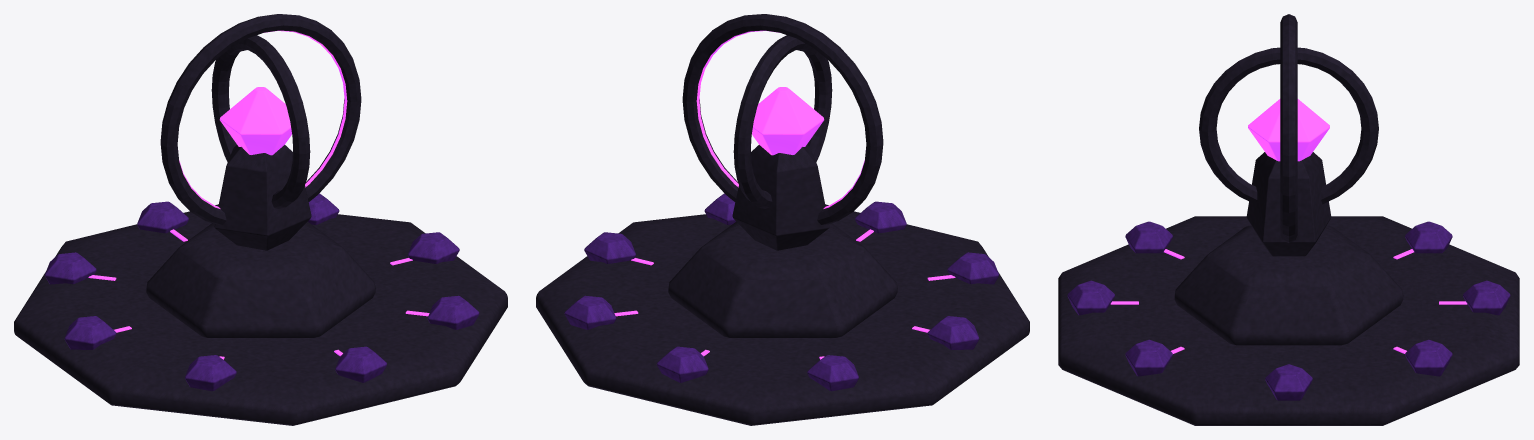
File: conclave_il_de_cristal.gltf
3 views of the same model, side by side, from view 1: azimuth 30°, elevation 25°; view 2: azimuth 150°, elevation 25°; view 3: azimuth 270°, elevation 25° (orthographic).
Parts seen in each view (by area): view 1: Root.009_Geometry, TurretYaw.001_Geometry; view 2: Root.009_Geometry, TurretYaw.001_Geometry; view 3: Root.009_Geometry, TurretYaw.001_Geometry.
Boxes of the visible parts, box(x1,y1,x2,y2) form: Root.009_Geometry: box(14, 145, 507, 425); TurretYaw.001_Geometry: box(160, 14, 361, 224); Root.009_Geometry: box(536, 145, 1029, 425); TurretYaw.001_Geometry: box(682, 14, 883, 224); Root.009_Geometry: box(1058, 152, 1519, 425); TurretYaw.001_Geometry: box(1199, 14, 1378, 242).
Size of the model in its own units: 3.92 by 2.87 by 3.92.
Materials: 3 (2 with a texture image).
